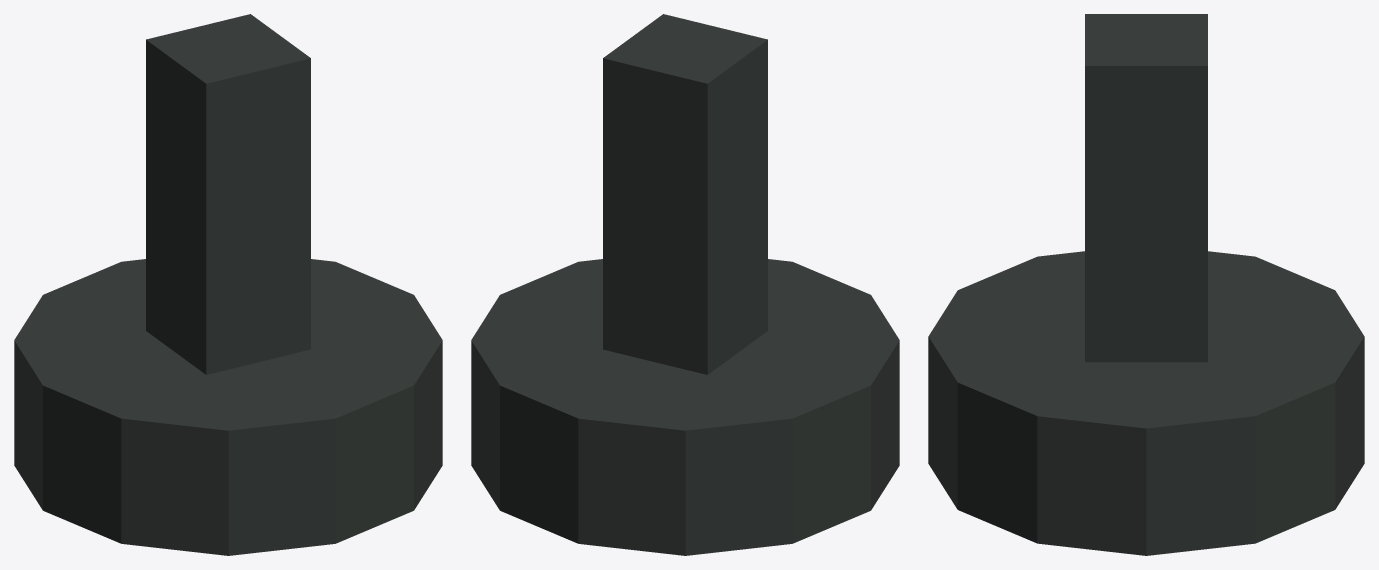
File: Bastion_CommunicationsCenter_DishYaw.obj
3 renders of one model, left to right at view 1: azimuth 30°, elevation 25°; view 2: azimuth 150°, elevation 25°; view 3: azimuth 270°, elevation 25°, orthographic.
Visible parts, largest first — view 1: Bastion_CommunicationsCenter_DishYaw; view 2: Bastion_CommunicationsCenter_DishYaw; view 3: Bastion_CommunicationsCenter_DishYaw.
Boxes of the visible parts, box(x1,y1,x2,y2) form: Bastion_CommunicationsCenter_DishYaw: box(14, 14, 442, 555); Bastion_CommunicationsCenter_DishYaw: box(471, 14, 899, 555); Bastion_CommunicationsCenter_DishYaw: box(928, 14, 1364, 555).
Size of the model in its own units: 1.24 by 1.33 by 1.24.
Materials: 1 (1 with a texture image).
